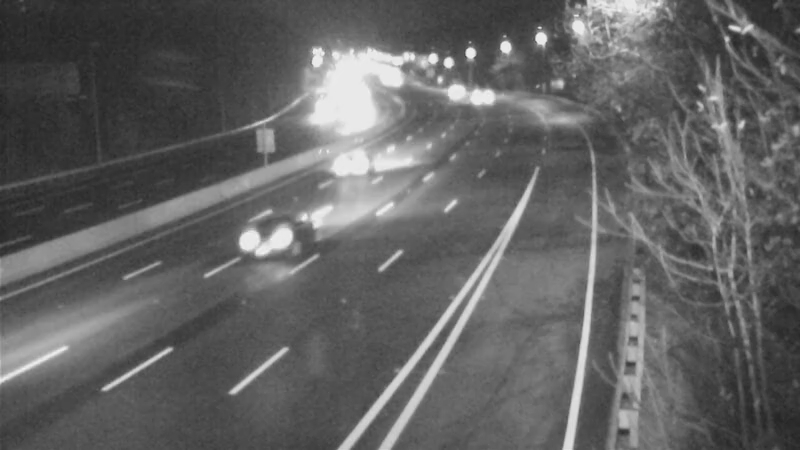vehicle: (309, 124, 389, 204), (226, 199, 306, 279), (422, 63, 472, 113), (454, 70, 504, 120)
